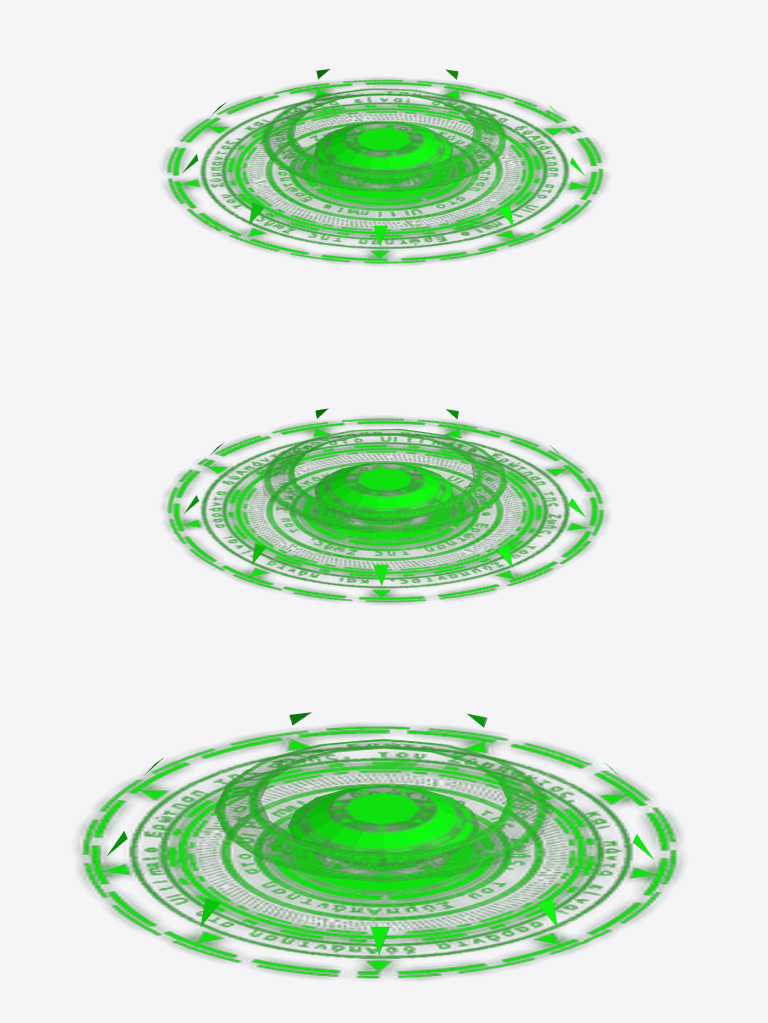
The model's file is ring.glb.
3 views of the same model, one above another, from view 1: azimuth 30°, elevation 25°; view 2: azimuth 150°, elevation 25°; view 3: azimuth 270°, elevation 25° (orthographic). The views are drawn at different scales.
Visible parts, largest first — view 1: Plane; view 2: Plane; view 3: Plane.
Boxes of the visible parts, x1,y1,x2,y2 form: Plane: (163,69,606,264); Plane: (163,408,607,603); Plane: (77,712,681,979).
Bounding box in the file's own units: 7.89 × 0.608 × 7.89.
1 material, 1 textured.
